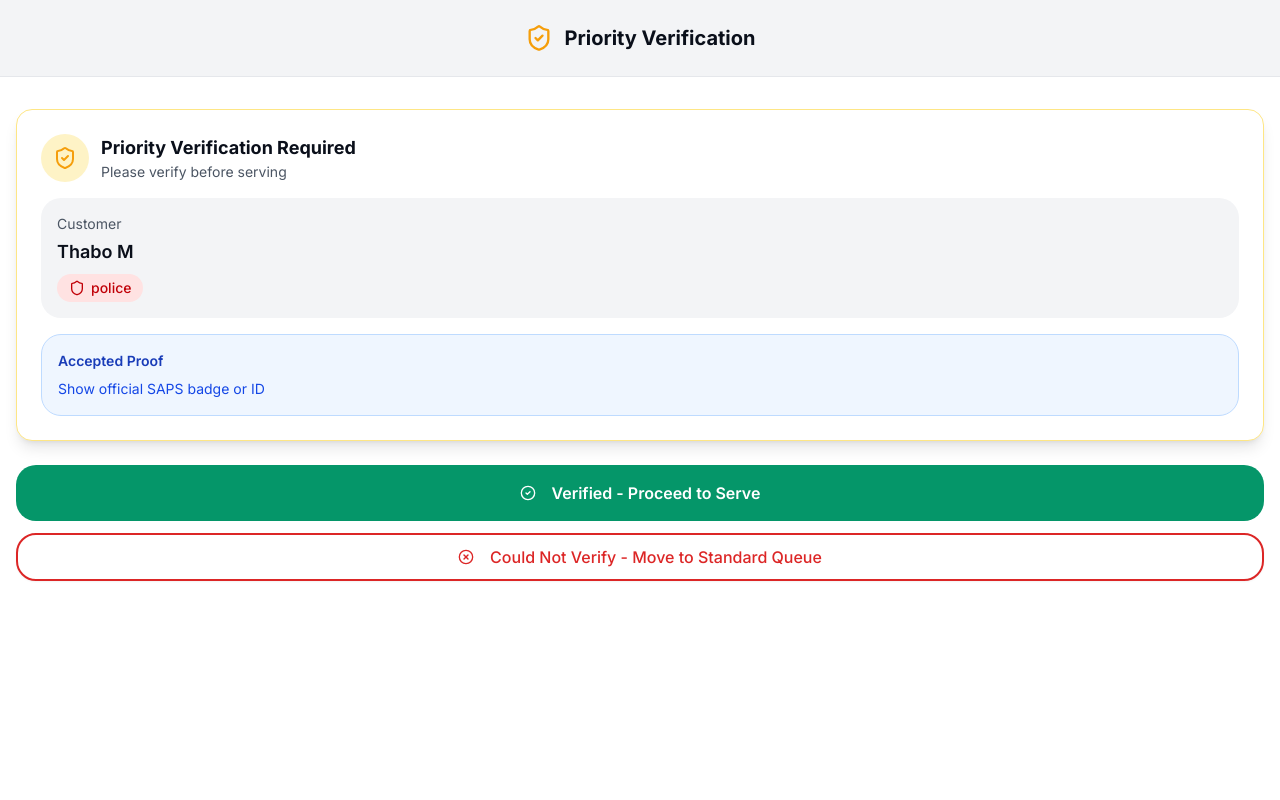
Scenario: StaffServingScreen (Now Serving) › emergency priority shows red header after verify
Click the button "Verified - Proceed to Serve" at (640, 493), box [16,465,1264,521]
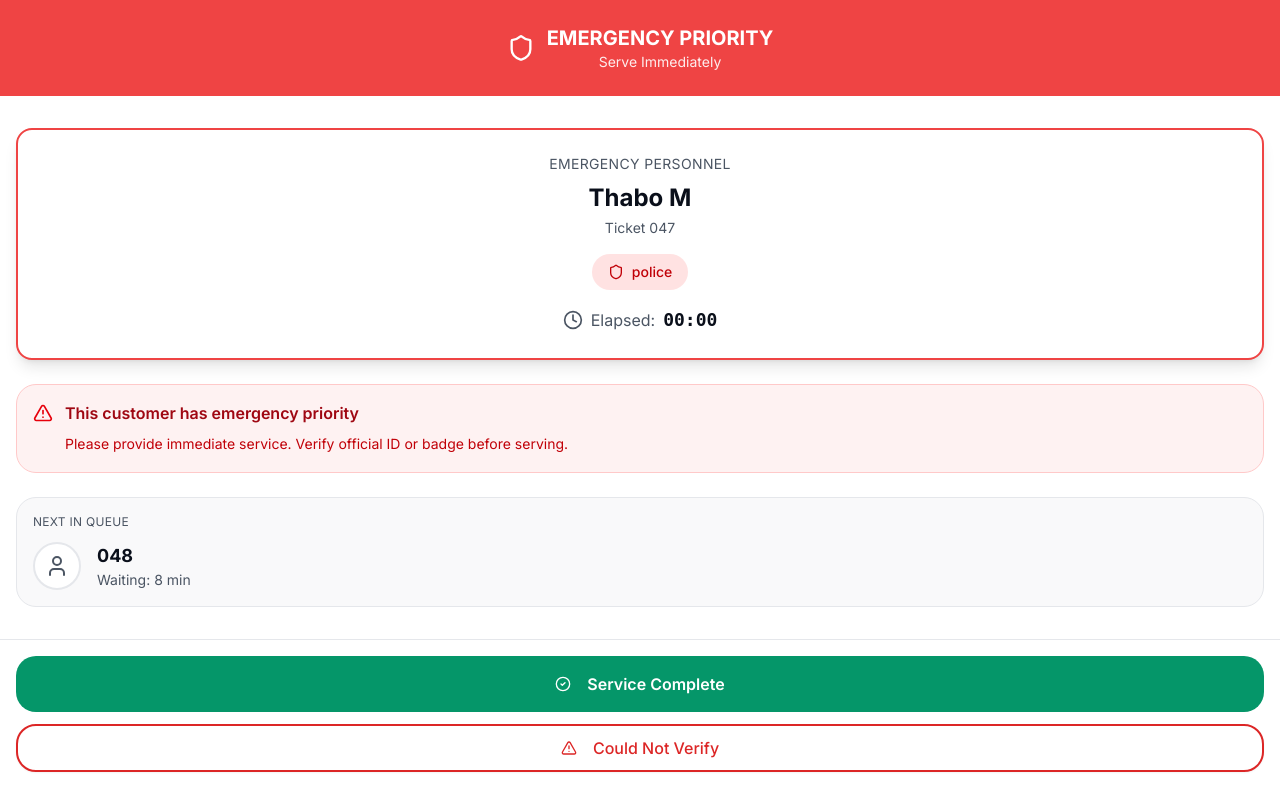
expect the heading "EMERGENCY PRIORITY" is shown: met, box [547,24,773,52]
